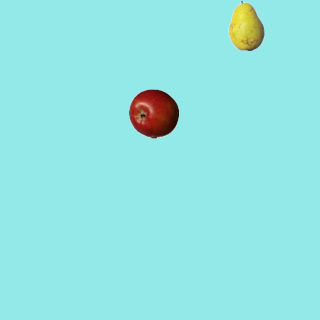Apple Braeburn: (128, 88, 178, 138)
Pear Monster: (221, 0, 271, 50)
